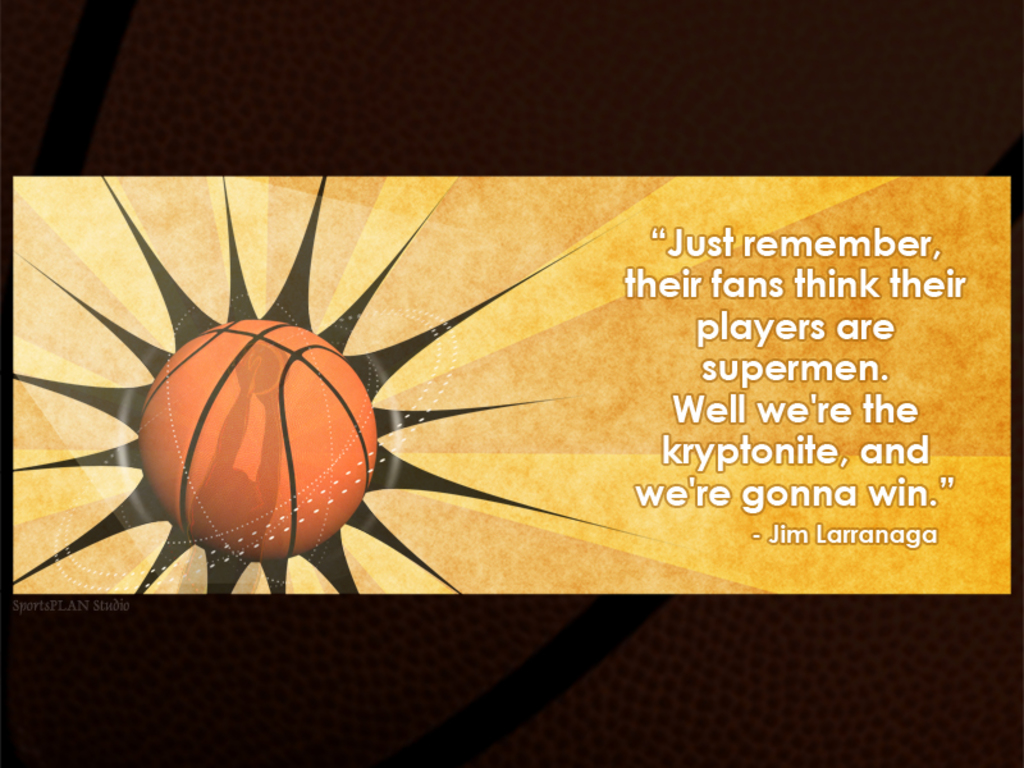Ball: (134, 316, 375, 559)
